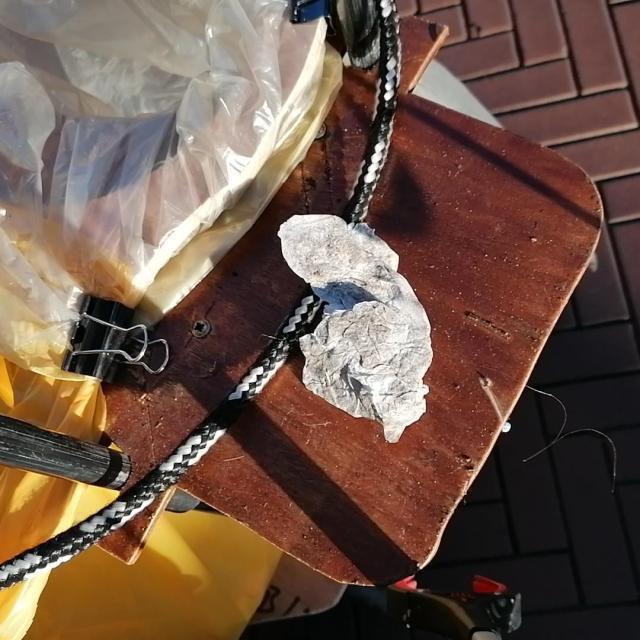Paper: (279, 204, 427, 442)
